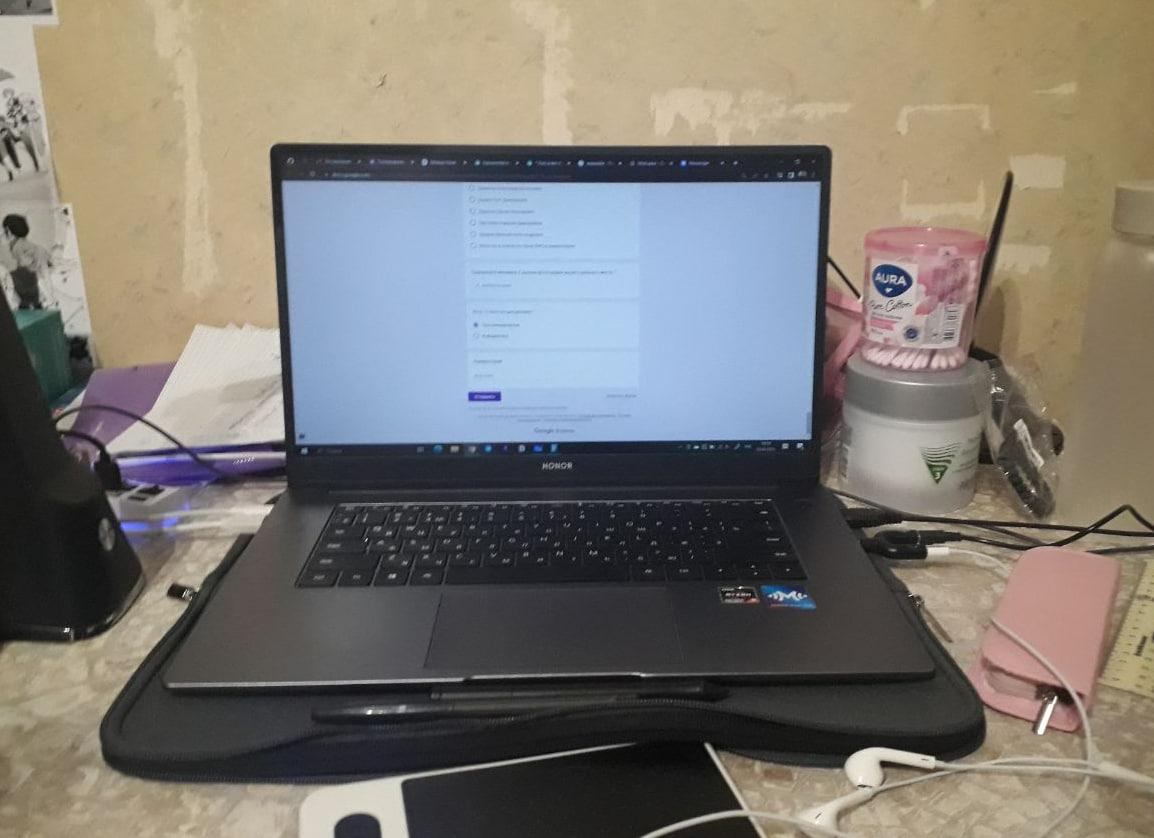monitor: (269, 139, 835, 486)
